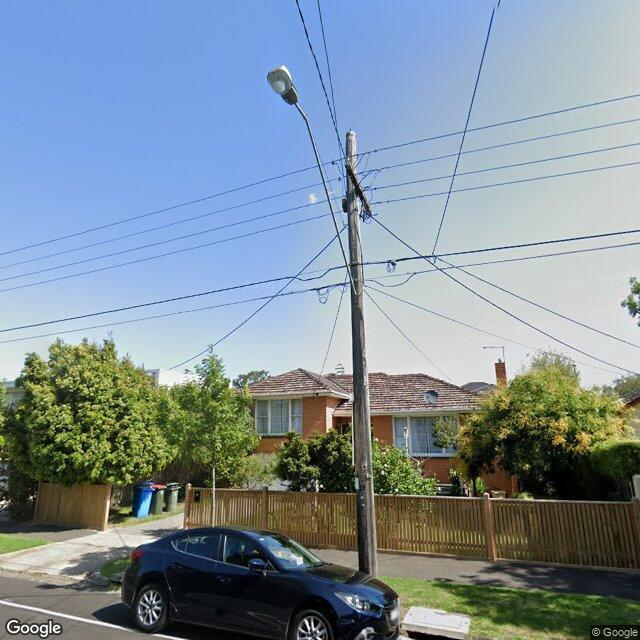crossarm: (346, 165, 372, 217)
streetlight: (266, 66, 358, 303)
timber-pole: (346, 131, 378, 580)
